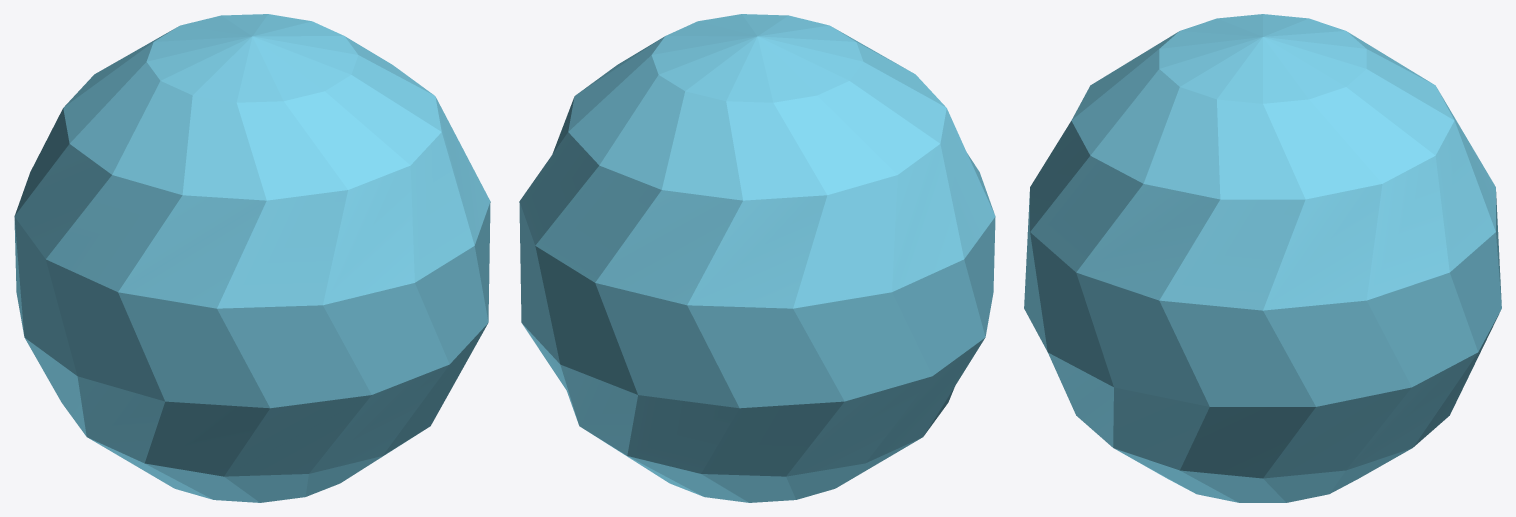
The model's file is power-shield.glb.
The picture shows the model from 3 angles, left to right: view 1: azimuth 30°, elevation 25°; view 2: azimuth 150°, elevation 25°; view 3: azimuth 270°, elevation 25°; orthographic projection.
Visible parts, largest first — view 1: bubble-shield; view 2: bubble-shield; view 3: bubble-shield.
Part boxes in pixels (x1,y1,x2,y2): bubble-shield: [14, 14, 490, 502]; bubble-shield: [519, 14, 995, 502]; bubble-shield: [1024, 14, 1501, 502].
Bounding box in the file's own units: 0.39 × 0.4 × 0.39.
Materials: 2 (2 with a texture image).
